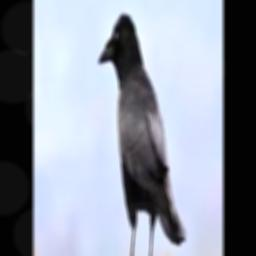Crow: (98, 12, 186, 256)
